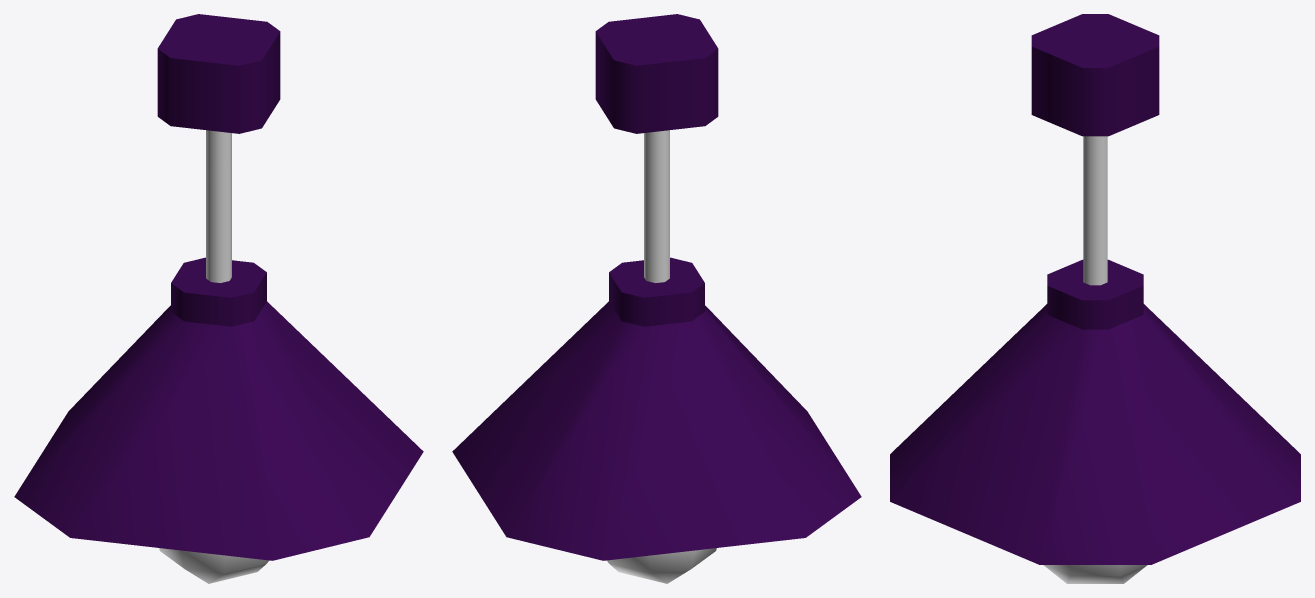
File: Lamp_AssestsConcert.fbx
3 views of the same model, side by side, from view 1: azimuth 30°, elevation 25°; view 2: azimuth 150°, elevation 25°; view 3: azimuth 270°, elevation 25° (orthographic).
Visible parts, largest first — view 1: Lamp; view 2: Lamp; view 3: Lamp.
Part boxes in pixels (bbox=[...]): Lamp: bbox=[14, 14, 423, 583]; Lamp: bbox=[452, 14, 861, 583]; Lamp: bbox=[890, 14, 1300, 583].
Size of the model in its own units: 446 by 636 by 446.
